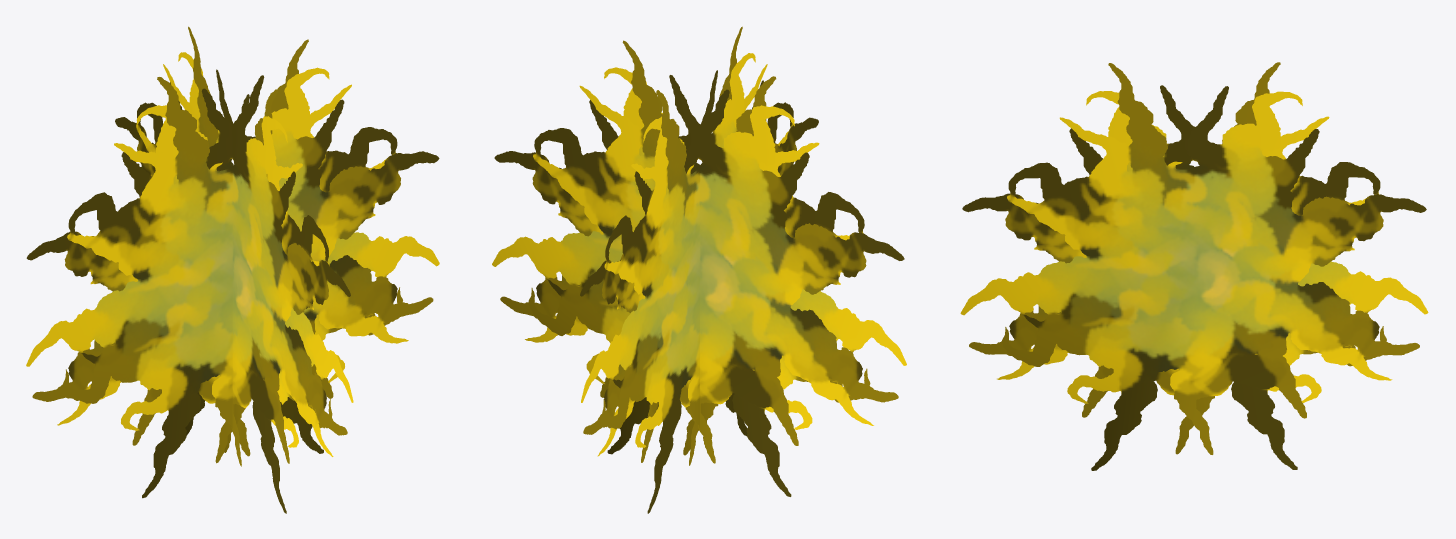
Rendered from HP3_weed052 1.fbx.
The picture shows the model from 3 angles, left to right: view 1: azimuth 30°, elevation 25°; view 2: azimuth 150°, elevation 25°; view 3: azimuth 270°, elevation 25°; orthographic projection. The views are drawn at different scales.
Visible parts, largest first — view 1: HP3_weed052; view 2: HP3_weed052; view 3: HP3_weed052.
Boxes of the visible parts, x1,y1,x2,y2 form: HP3_weed052: (26, 26, 439, 513); HP3_weed052: (492, 26, 906, 513); HP3_weed052: (960, 62, 1428, 470).
Bounding box in the file's own units: 10.29 × 9.79 × 10.29.
